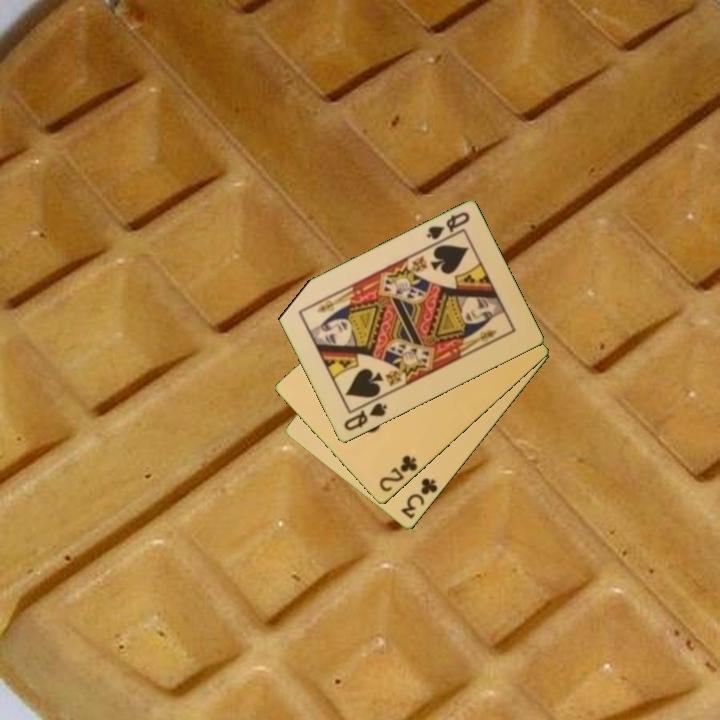2c: (375, 452, 420, 495)
3c: (397, 474, 441, 522)
Qs: (423, 209, 473, 248), (340, 400, 390, 434)
